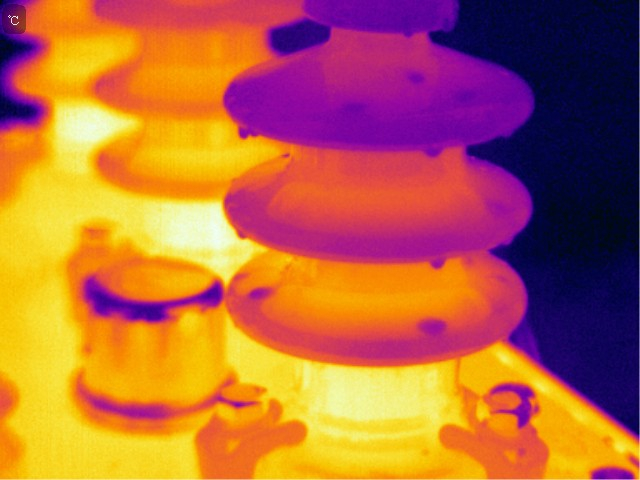Water: (455, 79, 485, 113), (413, 317, 455, 339), (337, 93, 368, 122), (228, 116, 258, 145), (438, 8, 462, 37), (401, 19, 422, 46), (244, 283, 273, 302), (407, 65, 434, 85), (501, 228, 521, 250), (420, 144, 448, 159), (229, 225, 250, 243), (427, 255, 448, 271)
